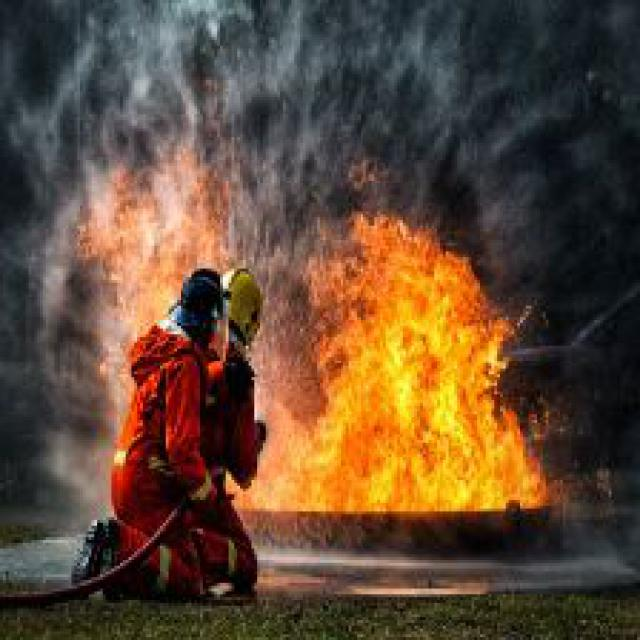fire: (263, 186, 560, 511)
